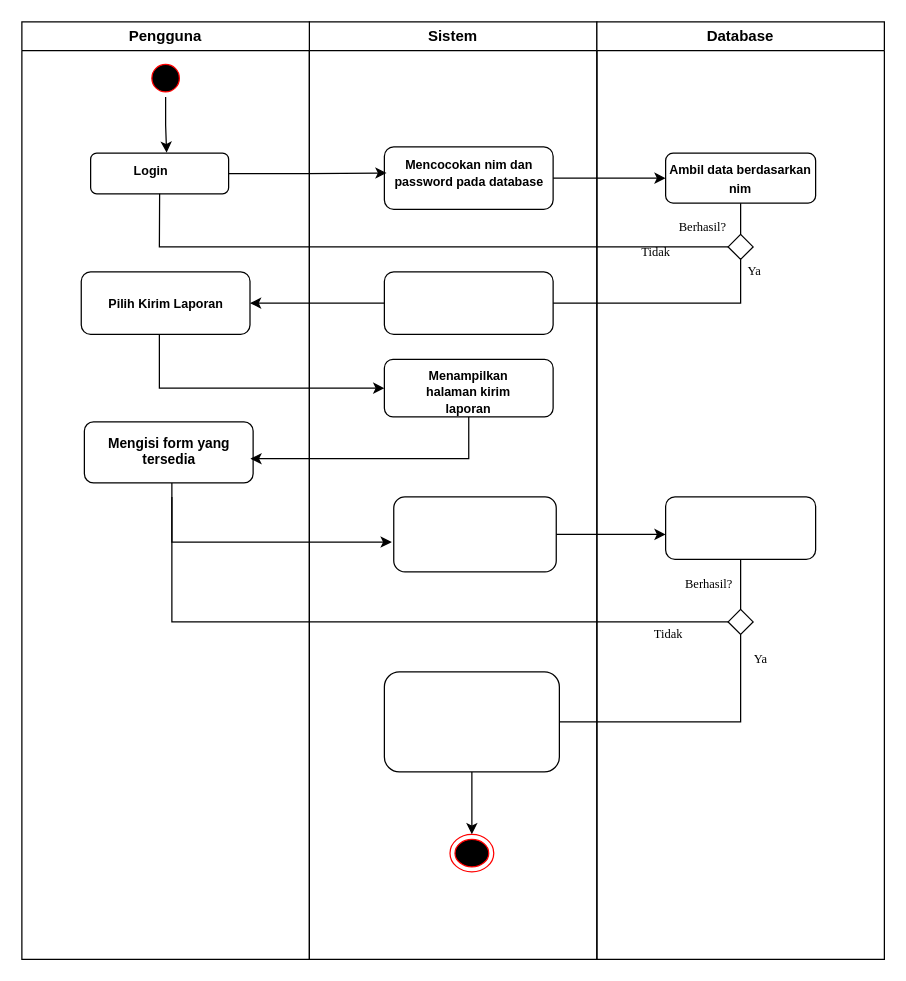
The diagram is 906 pixels wide and 981 high, and some of its shapes have lost their labels. Each missing label, with the centre of its shape:
"Menampilkan halaman beranda" belongs at pixel 468 302.
"Menampilkan pemberitauhan berhasil disimpan" belongs at pixel 471 721.
"Mengirim form yang diisi pengguna" belongs at pixel 474 534.
"Menyimpan data" belongs at pixel 740 527.
